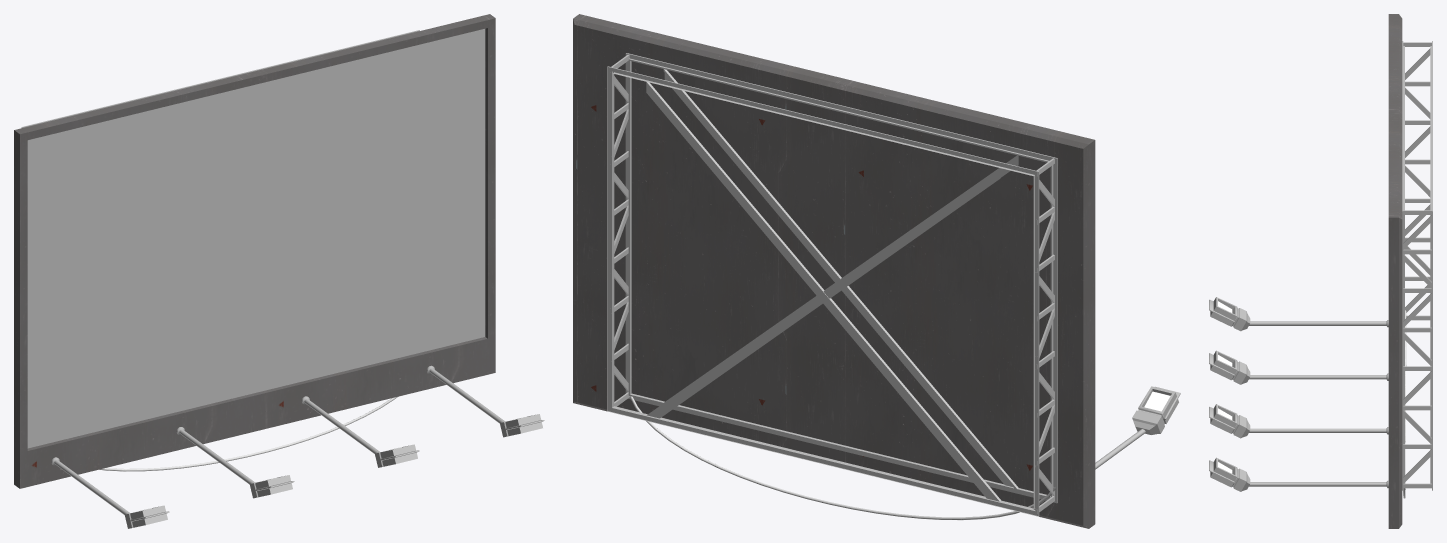
File: KB3D_CBP_Billboard_E.fbx
3 views of the same model, side by side, from view 1: azimuth 30°, elevation 25°; view 2: azimuth 150°, elevation 25°; view 3: azimuth 270°, elevation 25° (orthographic). The views are drawn at different scales.
Parts seen in each view (by area): view 1: KB3D_CBP_Billboard_E_Main; view 2: KB3D_CBP_Billboard_E_Main; view 3: KB3D_CBP_Billboard_E_Main.
Part boxes in pixels (x1,y1,x2,y2): KB3D_CBP_Billboard_E_Main: (14, 14, 544, 528); KB3D_CBP_Billboard_E_Main: (573, 14, 1180, 528); KB3D_CBP_Billboard_E_Main: (1209, 14, 1432, 528).
Size of the model in its own units: 578 by 450 by 269.
